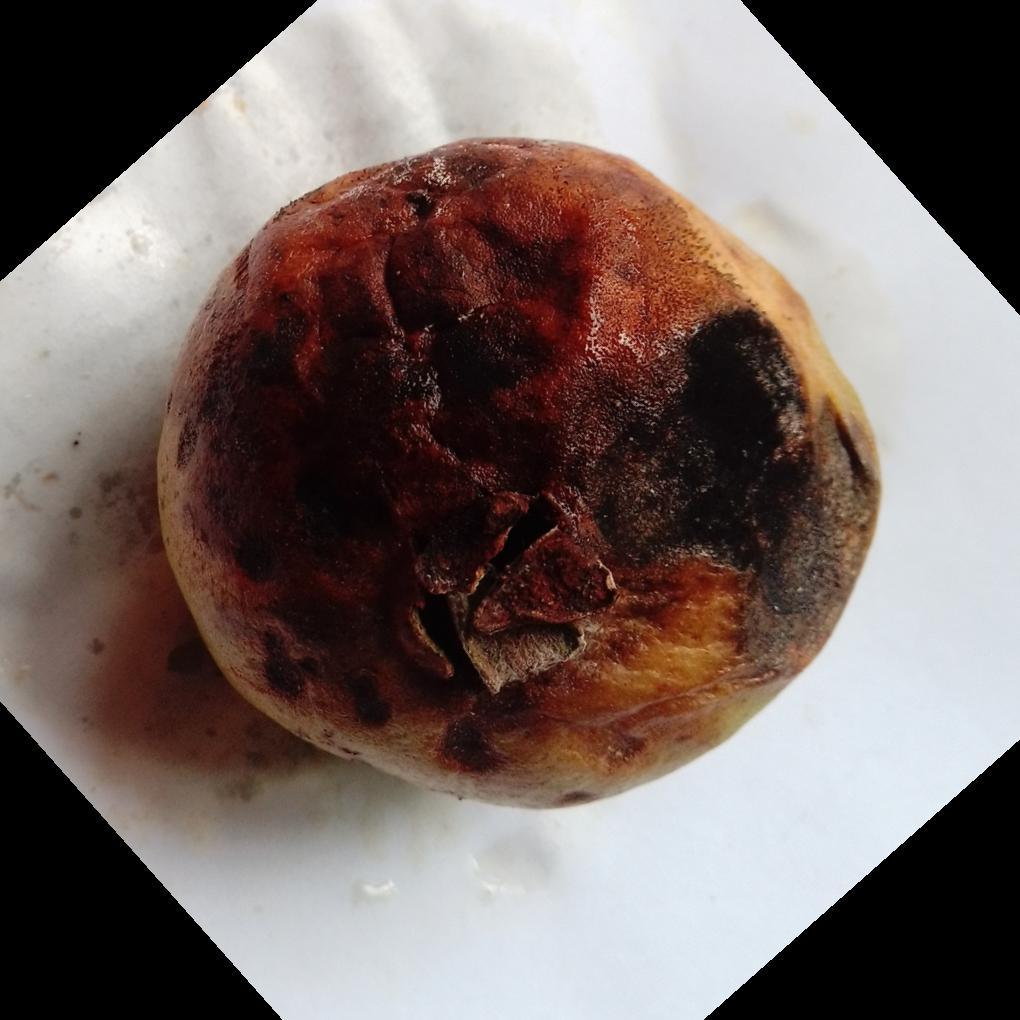FreshOrange: (153, 138, 883, 815)
